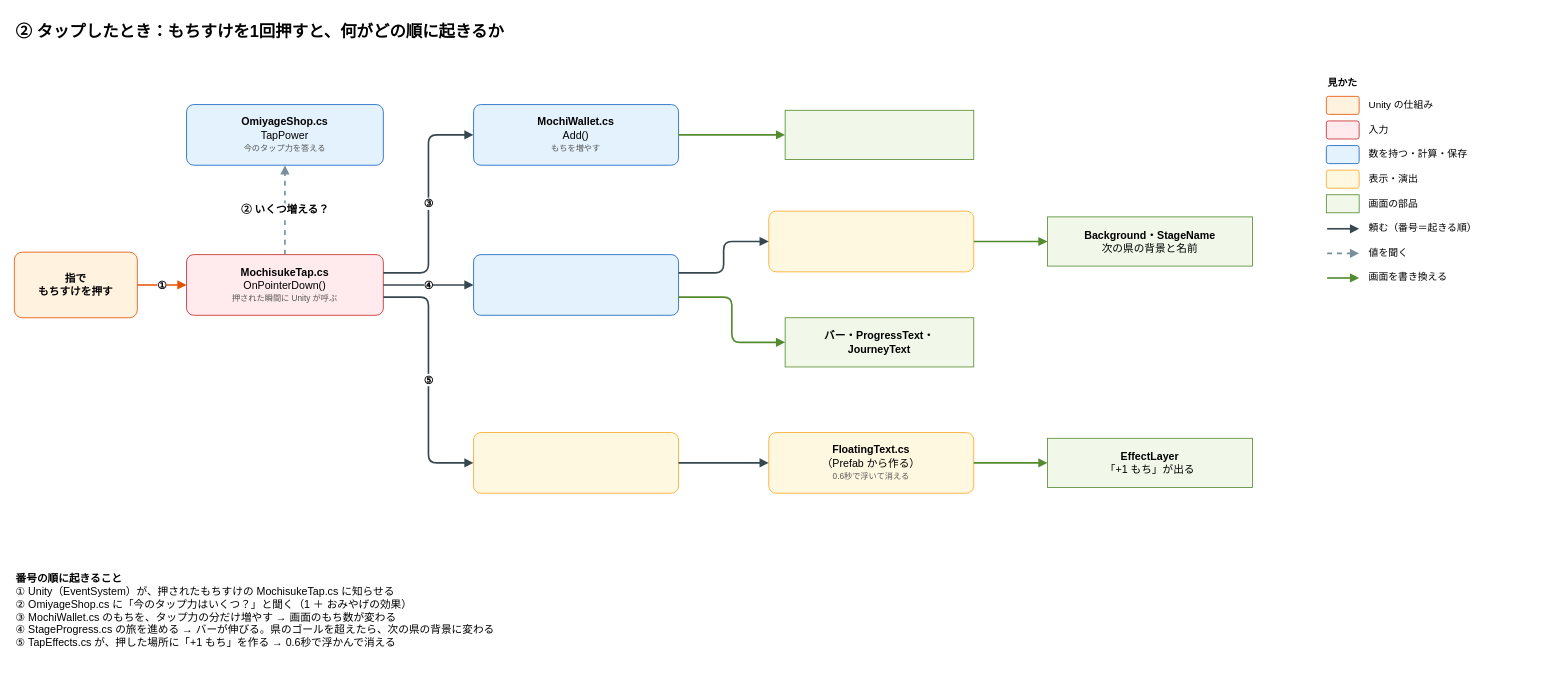
Some shapes in this 1554 by 689 pixel diagram are drawn without their labels. The shapes that lost their labels are listed below. From the top down, each one's box as (x1, y1, x2, y2) in pixels, then its label:
(784, 109, 974, 159): MochiCount 「〇〇 もち」
(768, 210, 974, 272): StageView.cs ShowStage() 県を超えたときだけ
(473, 254, 679, 315): StageProgress.cs AddProgress() 旅を進める
(473, 432, 679, 493): TapEffects.cs PlayTap() 押した場所に文字を作る
